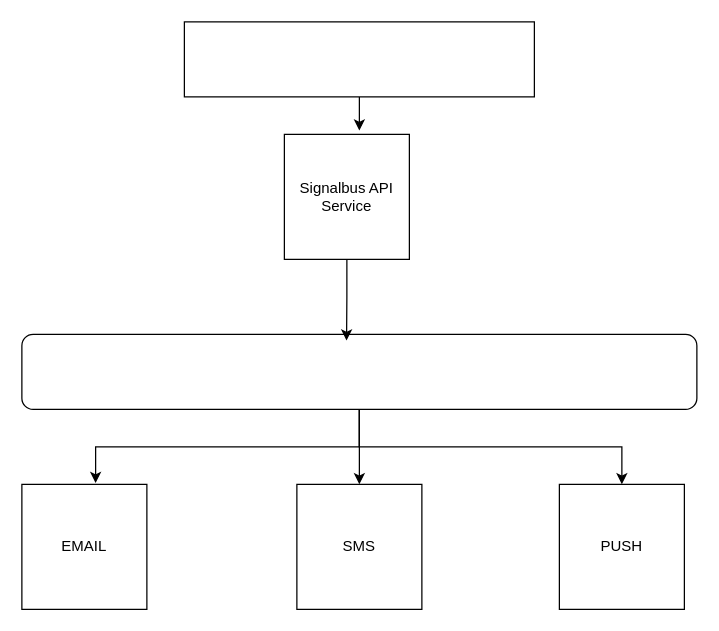
This 719x631 diagram has some shape labels left out. Here are the shapes that lost their labels. From the top down, the box of each, then its label:
(183, 21, 534, 97): Client
(21, 333, 697, 409): KAFKA
